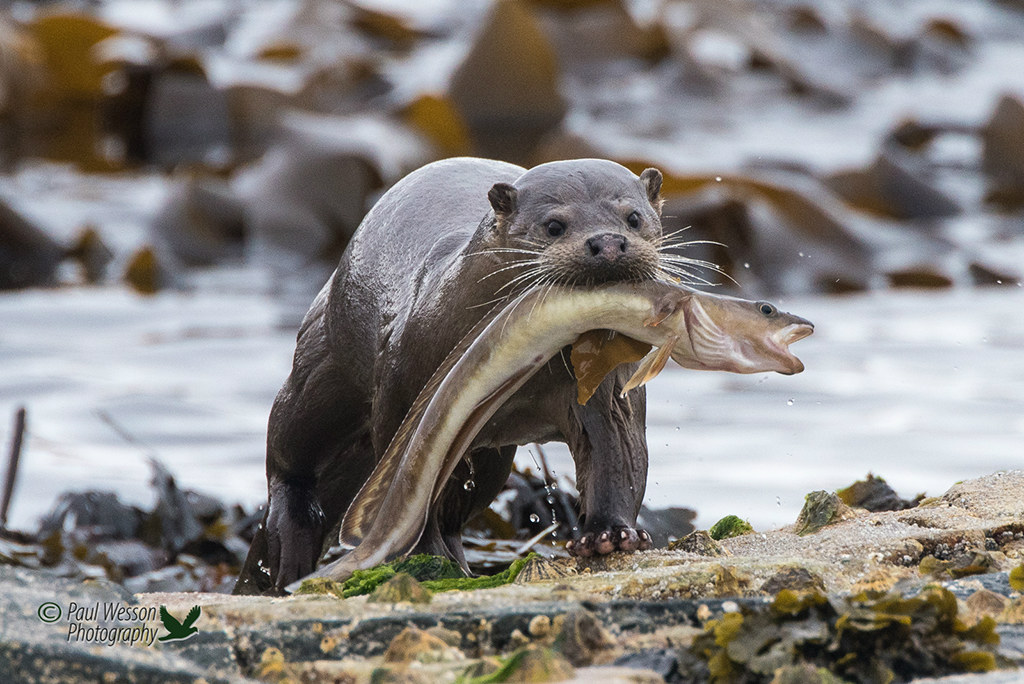otter: (221, 143, 859, 574)
